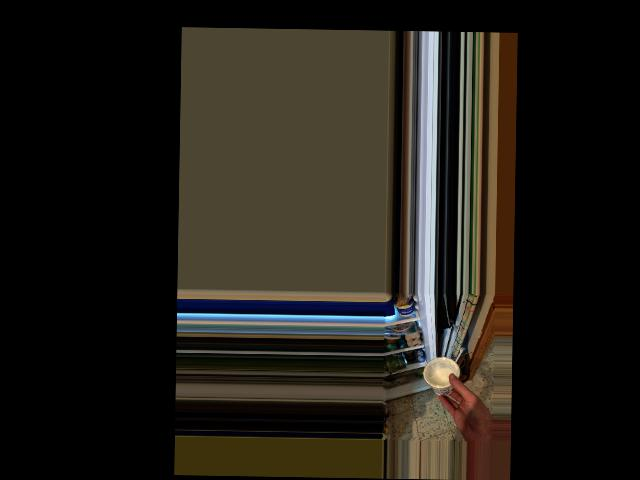cotage: (429, 357, 463, 398)
